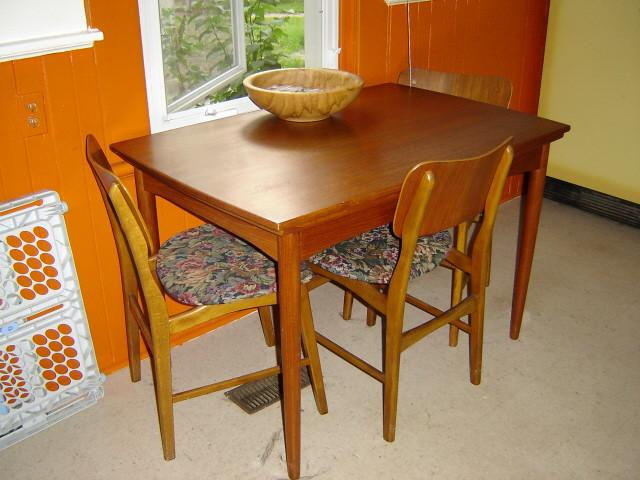table: (108, 82, 571, 479)
